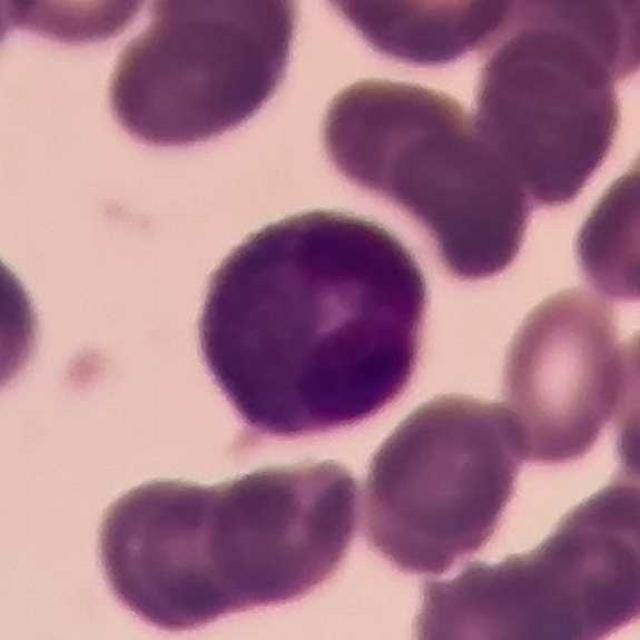Eosinophil: (185, 199, 441, 449)
RBC: (356, 386, 527, 577), (98, 7, 297, 160), (86, 470, 262, 638), (470, 28, 628, 204), (200, 450, 368, 613), (491, 279, 633, 470), (386, 122, 537, 285), (312, 70, 478, 204), (501, 522, 640, 639), (145, 1, 305, 95), (404, 555, 580, 640), (314, 0, 523, 70), (542, 478, 640, 612), (505, 2, 639, 91), (566, 149, 640, 308), (0, 233, 51, 416), (2, 0, 160, 52), (597, 315, 640, 492)
